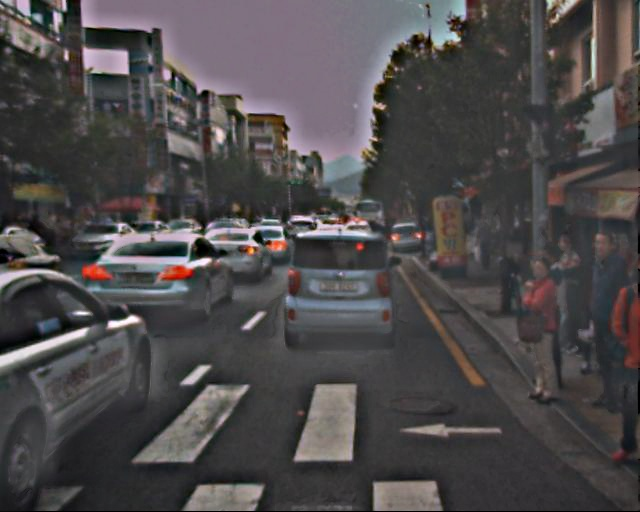person: (571, 232, 640, 408), (590, 260, 640, 462), (511, 258, 570, 401), (545, 235, 594, 354), (473, 211, 497, 269)
